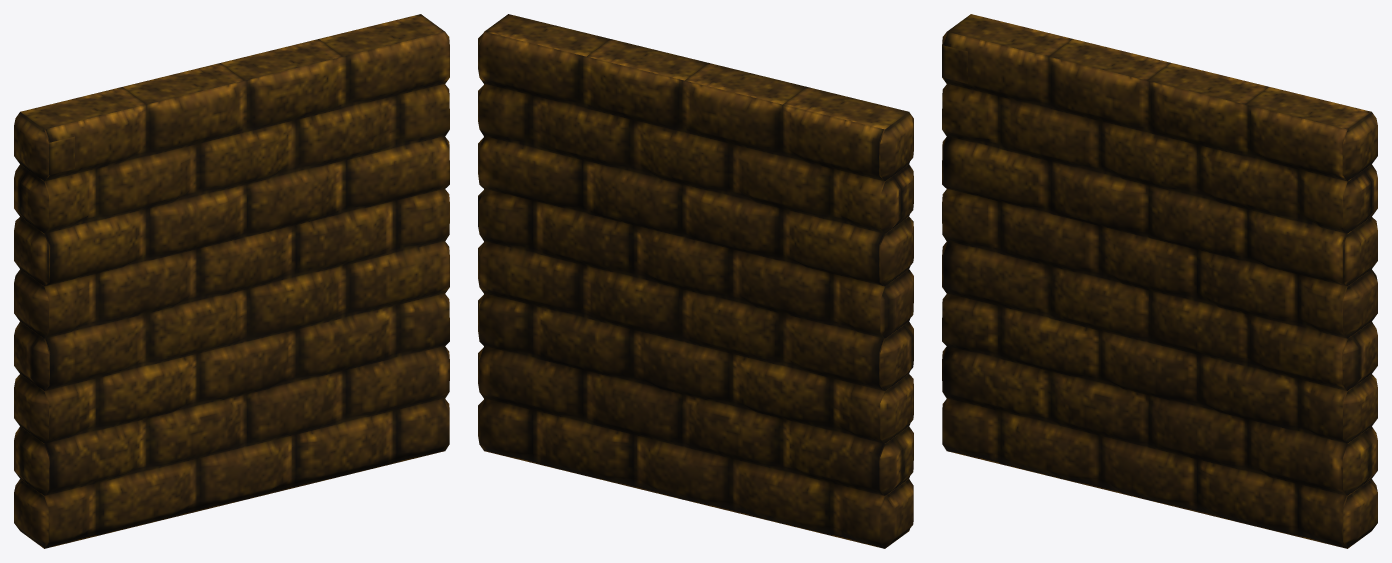
File: BrickWall.fbx
3 renders of one model, left to right at view 1: azimuth 30°, elevation 25°; view 2: azimuth 150°, elevation 25°; view 3: azimuth 330°, elevation 25°, orthographic.
Parts seen in each view (by area): view 1: Brick Wall; view 2: Brick Wall; view 3: Brick Wall.
Boxes of the visible parts, <box> form: Brick Wall: <box>14,14,449,548</box>; Brick Wall: <box>478,14,913,548</box>; Brick Wall: <box>942,14,1377,548</box>.
Bounding box in the file's own units: 208 × 200 × 29.
1 material, 1 textured.
